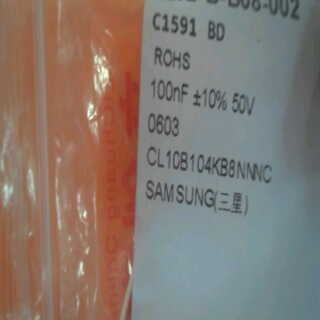100nF: (146, 76, 194, 108)
